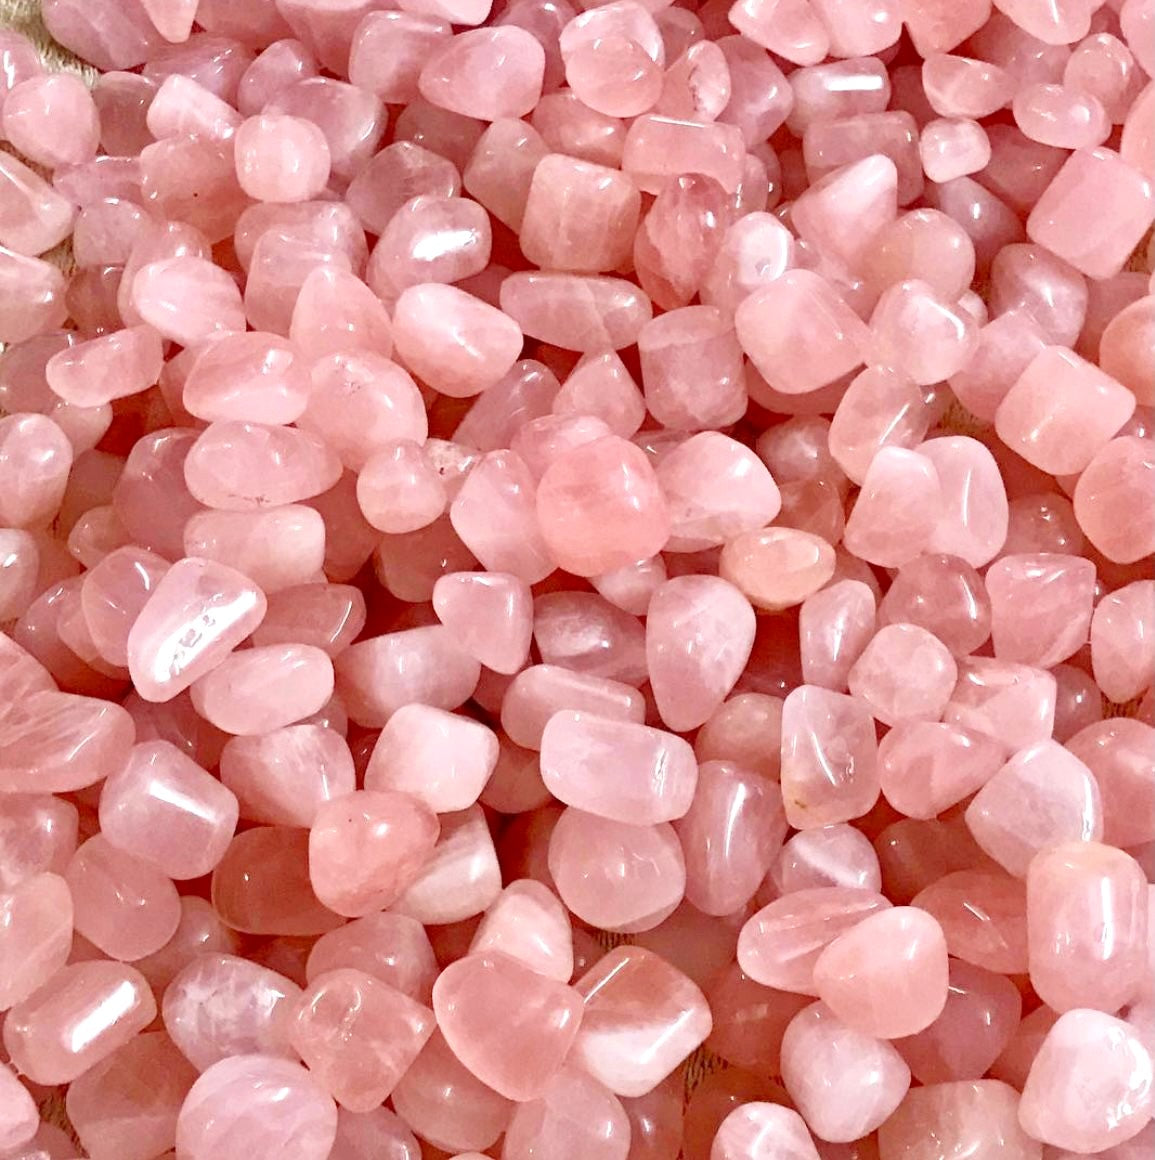Rose_Quartz: (3, 31, 1155, 1137)
